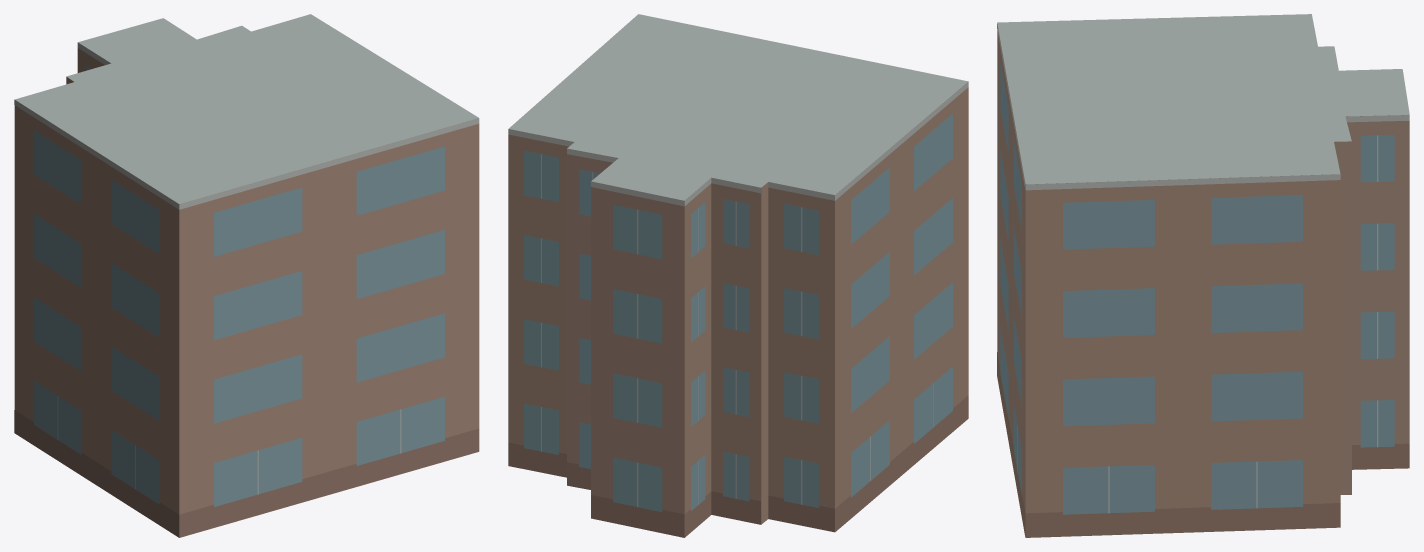
The model's file is survey-upis-32857246.glb.
The picture shows the model from 3 angles, left to right: view 1: azimuth 30°, elevation 25°; view 2: azimuth 150°, elevation 25°; view 3: azimuth 270°, elevation 25°; orthographic projection. The views are drawn at different scales.
Visible parts, largest first — view 1: survey-upis-32857246.tmp; view 2: survey-upis-32857246.tmp; view 3: survey-upis-32857246.tmp.
Boxes of the visible parts, <box> form: survey-upis-32857246.tmp: <box>14,14,479,537</box>; survey-upis-32857246.tmp: <box>508,14,968,537</box>; survey-upis-32857246.tmp: <box>997,14,1409,537</box>.
Bounding box in the file's own units: 15.14 × 14.63 × 15.49.
